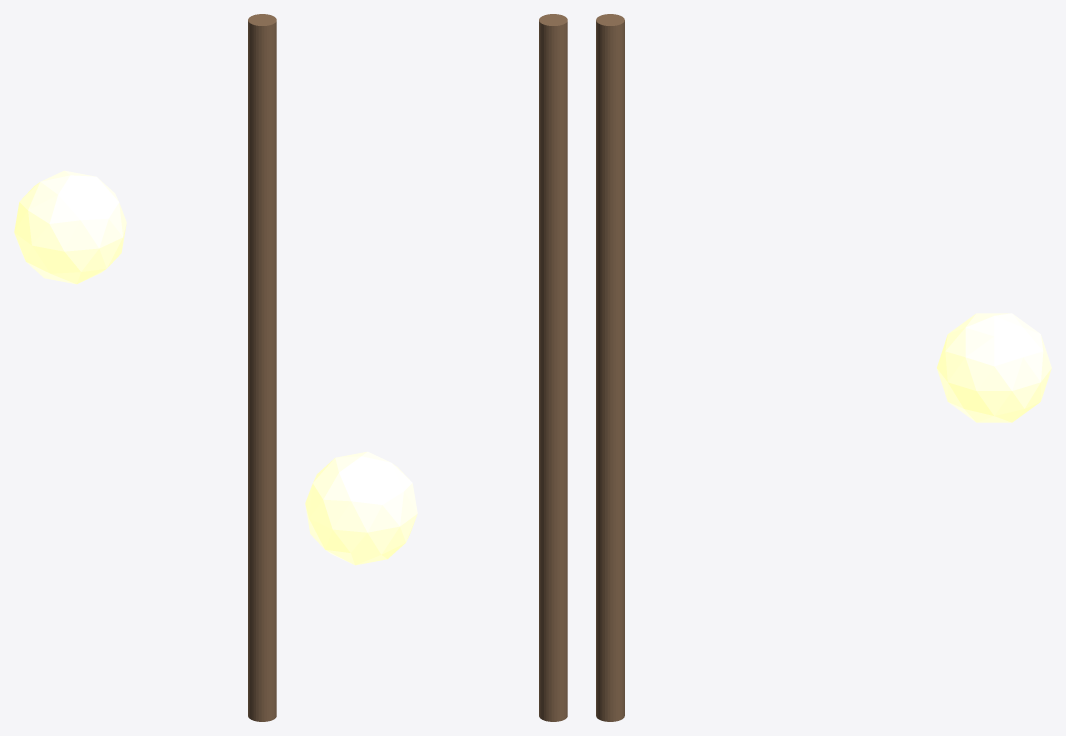
Rendered from fantasy_magic_wand_staff.glb.
3 renders of one model, left to right at view 1: azimuth 30°, elevation 25°; view 2: azimuth 150°, elevation 25°; view 3: azimuth 270°, elevation 25°, orthographic.
Parts seen in each view (by area): view 1: Cylinder, Icosphere; view 2: Cylinder, Icosphere; view 3: Cylinder, Icosphere.
Boxes of the visible parts, bbox=[...] form: Cylinder: bbox=[248, 14, 276, 721]; Icosphere: bbox=[14, 170, 126, 284]; Cylinder: bbox=[539, 14, 567, 721]; Icosphere: bbox=[305, 451, 417, 565]; Cylinder: bbox=[596, 14, 624, 721]; Icosphere: bbox=[937, 313, 1051, 422].
Bounding box in the file's own units: 0.1141 × 0.8 × 0.475.
